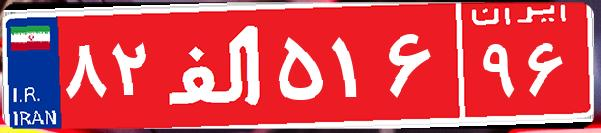1: (330, 28, 385, 110)
2: (110, 28, 158, 105)
5: (273, 28, 330, 110)
6: (385, 28, 445, 110), (525, 38, 570, 115)
8: (57, 26, 110, 107)
9: (475, 38, 525, 113)
الف: (158, 15, 273, 115)
